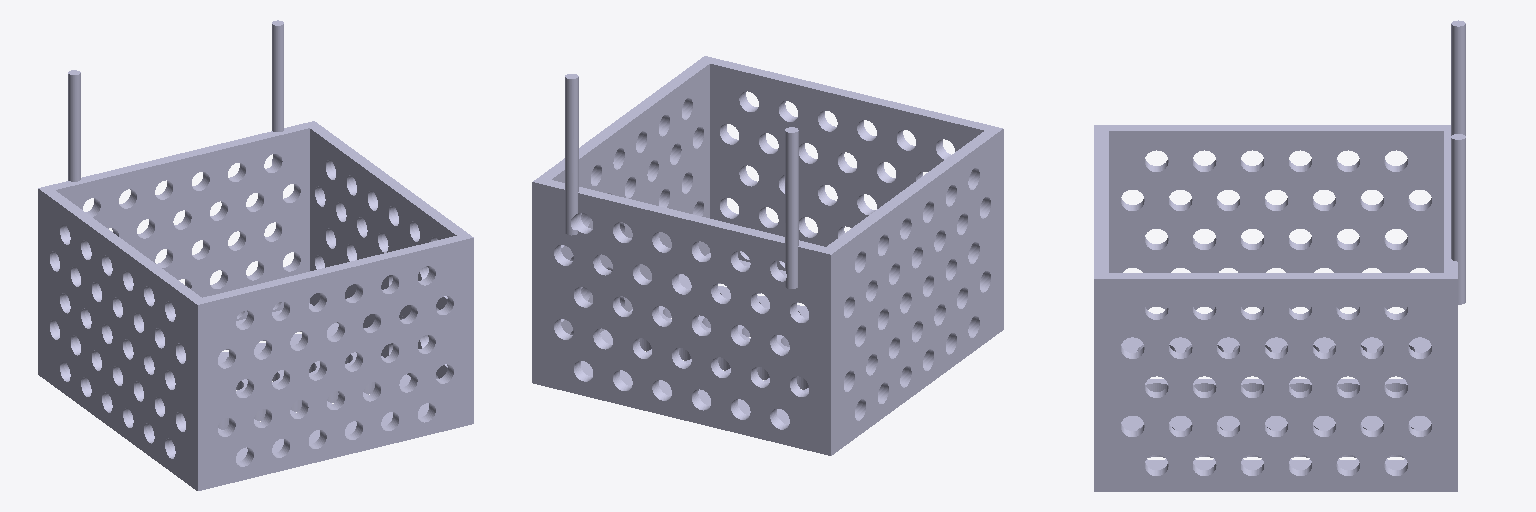
URDF robot description (container):
<?xml version="1.0"?>
<robot name="container">
  <!-- Materials -->
  <material name="container_color">
    <color rgba="0.8 0.8 0.9 1.0"/> <!-- Light blue-gray -->
  </material>

  <!-- Container with 4 side walls -->
  <link name="container">
    <visual>
      <geometry>
        <mesh filename="package://lerobot_robots_description/meshes/container_visual.stl"/>
      </geometry>
      <material name="container_color"/>
    </visual>
    <collision>
      <geometry>
        <mesh filename="package://lerobot_robots_description/meshes/container_collision.stl"/>
      </geometry>
    </collision>
    <inertial>
      <mass value="0.1"/> <!-- Light container -->
      <origin xyz="0 0 0" rpy="0 0 0"/>
      <inertia ixx="0.0001" ixy="0.0" ixz="0.0" iyy="0.0001" iyz="0.0" izz="0.0001"/>
    </inertial>
  </link>
</robot>

--- What the picture shows (computed from the rendered views, not written in the file) ---
Views: 3 orthographic renders of the robot side by side, from view 1: azimuth 30°, elevation 25°; view 2: azimuth 150°, elevation 25°; view 3: azimuth 270°, elevation 25°.
Robot: container — 1 links, 0 joints (none); root link container; default pose: all joints at 0.
Links seen in each view (by area): view 1: container; view 2: container; view 3: container.
Boxes of the visible links, x1=… form: container: x1=38, y1=20, x2=473, y2=490; container: x1=532, y1=56, x2=1003, y2=455; container: x1=1094, y1=20, x2=1465, y2=491.
Size in the robot's own frame: 0.076 by 0.0775 by 0.077 metres.
1 mesh visuals loaded from 1 distinct referenced files (1 binary STL).
